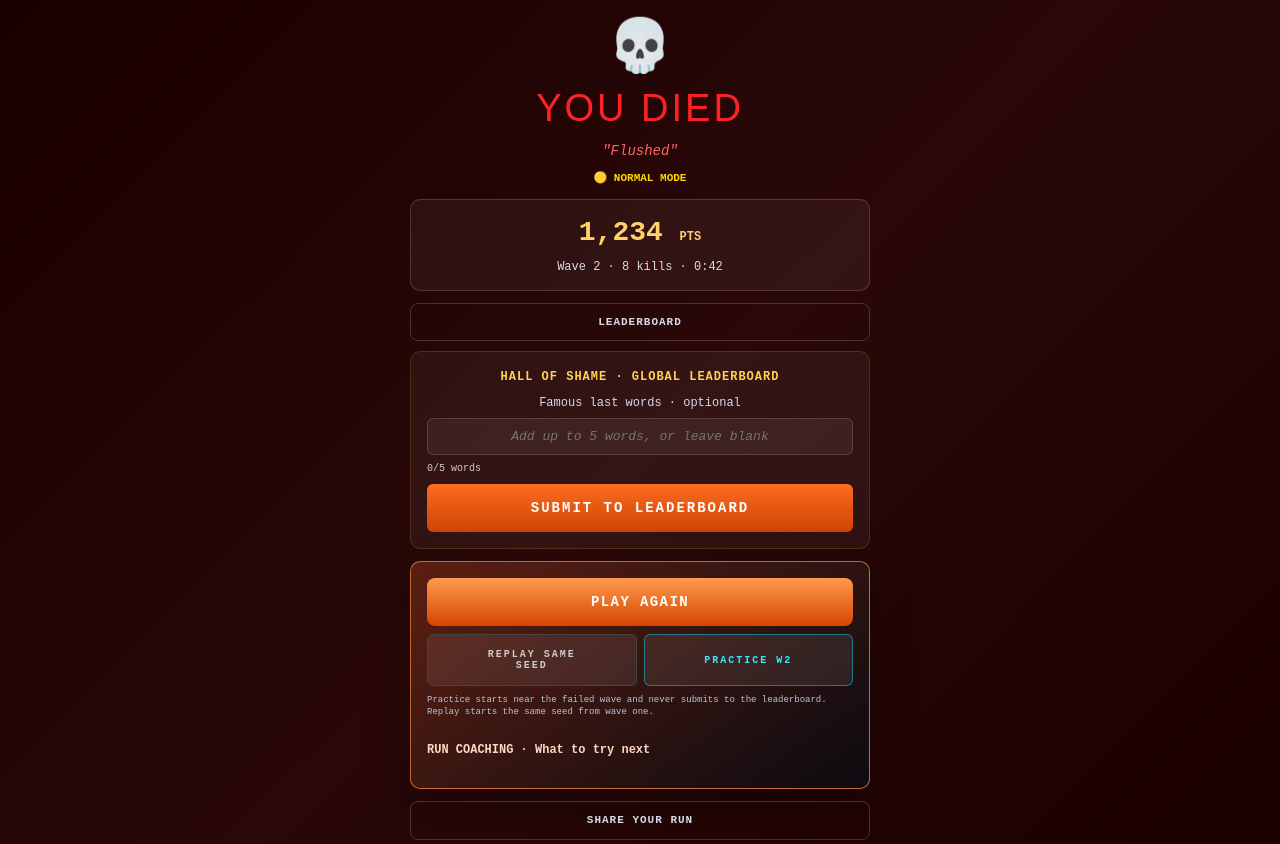
Scenario: end-run player actions › distinguishes local submission from online success
Click the button with test id "submit-to-leaderboard".
click(640, 508)  # box [427,484,853,532]
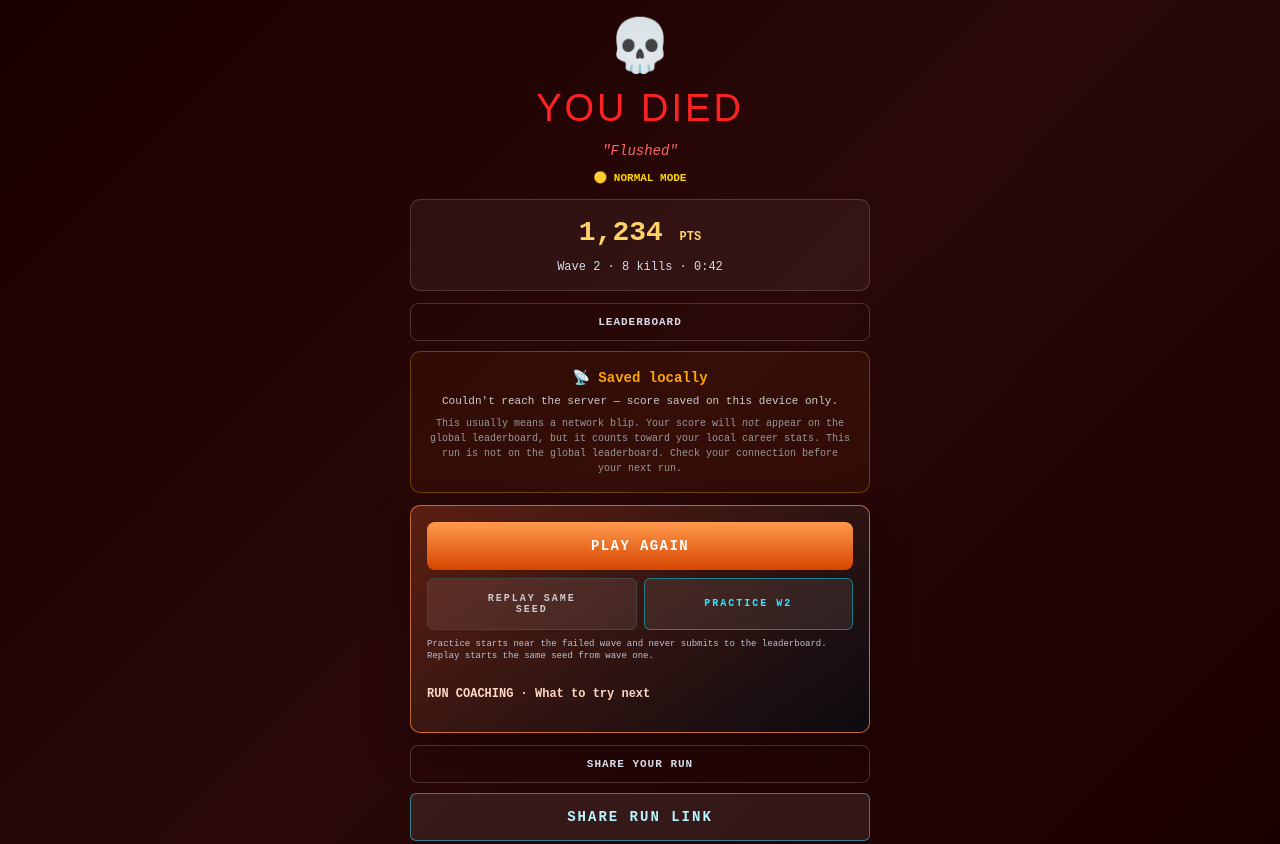
Check: the text "Saved locally" is shown, box [572,370,708,386]
